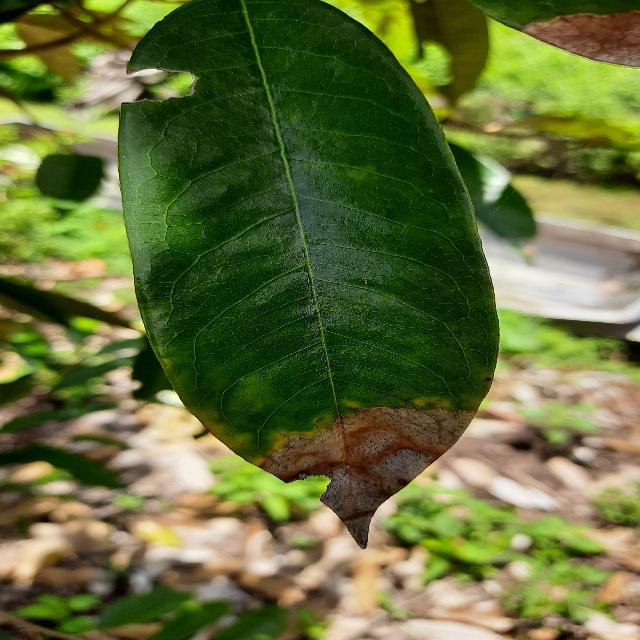Leaf Blight: (109, 0, 506, 558)
